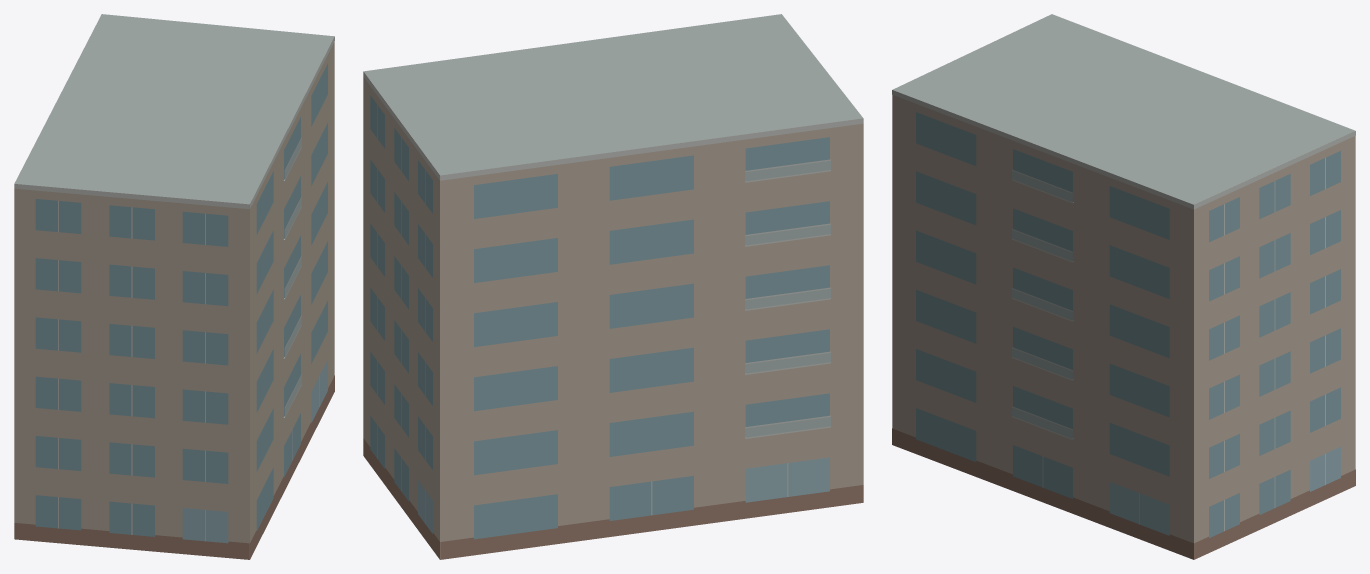
Rendered from survey-upis-32847612.glb.
3 views of the same model, side by side, from view 1: azimuth 30°, elevation 25°; view 2: azimuth 150°, elevation 25°; view 3: azimuth 270°, elevation 25° (orthographic). The views are drawn at different scales.
Visible parts, largest first — view 1: survey-upis-32847612.tmp; view 2: survey-upis-32847612.tmp; view 3: survey-upis-32847612.tmp.
Part boxes in pixels (<box>): survey-upis-32847612.tmp: <box>14,14,334,559</box>; survey-upis-32847612.tmp: <box>363,14,863,559</box>; survey-upis-32847612.tmp: <box>892,14,1355,559</box>.
Bounding box in the file's own units: 20.75 × 18 × 21.31.
